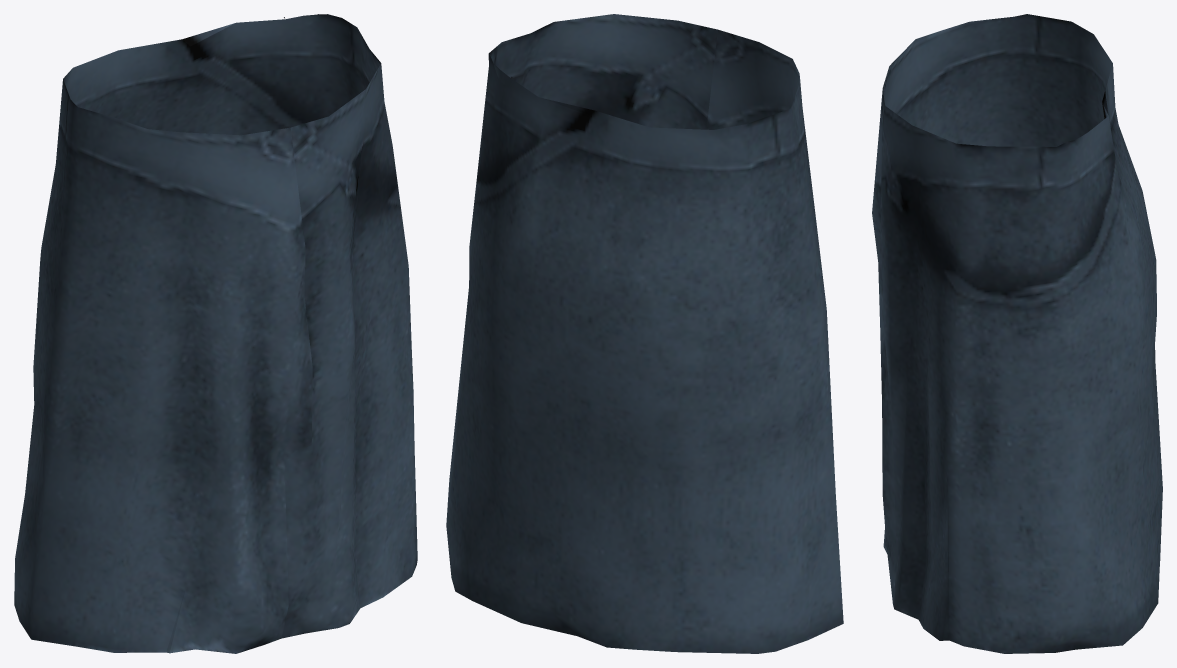
File: clo_lrd_gondor_marines_1_armour.fbx
3 renders of one model, left to right at view 1: azimuth 30°, elevation 25°; view 2: azimuth 150°, elevation 25°; view 3: azimuth 270°, elevation 25°, orthographic. The views are drawn at different scales.
Visible parts, largest first — view 1: clo_lrd_gondor_marines_1_armour; view 2: clo_lrd_gondor_marines_1_armour; view 3: clo_lrd_gondor_marines_1_armour.
Part boxes in pixels (x1,y1,x2,y2): clo_lrd_gondor_marines_1_armour: (14, 14, 417, 653); clo_lrd_gondor_marines_1_armour: (446, 14, 843, 653); clo_lrd_gondor_marines_1_armour: (872, 14, 1162, 653).
Size of the model in its own units: 0.4488 by 0.3154 by 0.6013.
Materials: 1 (1 with a texture image).
